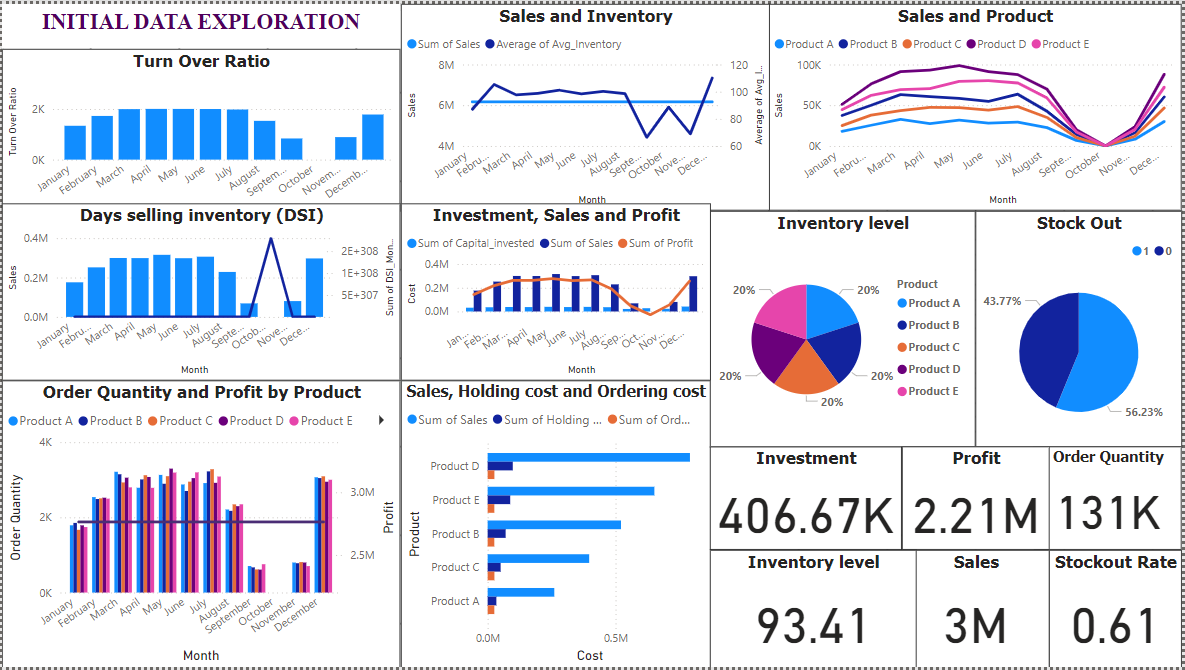

What the dashboard file says about the page in this screenshot:
{"tool":"powerbi","page":{"name":"Initial","canvas":[1280,720],"ordinal":0},"visuals":[{"type":"lineChart","title":"Sales and Product","fields":{"Y":["Sum(daily_inventory_management_data_with_scenarios.Sales)"],"Category":["daily_inventory_management_data_with_scenarios.Date.Variation.Date Hierarchy.Month"],"Series":["daily_inventory_management_data_with_scenarios.Product"]},"box":[832,0,448,224],"z":0},{"type":"clusteredColumnChart","title":"Turn Over Ratio","fields":{"Category":["daily_inventory_management_data_with_scenarios.Date.Variation.Date Hierarchy.Month"],"Y":["Avg(daily_inventory_management_data_with_scenarios.Turn_Over_Ratio)"]},"box":[0,48,432,176],"z":1000},{"type":"card","title":"Stockout Rate","fields":{"Values":["daily_inventory_management_data_with_scenarios.Stockout_rate"]},"box":[1136,592,144,128],"z":2000},{"type":"lineChart","title":"Sales and Inventory ","fields":{"Category":["daily_inventory_management_data_with_scenarios.Date.Variation.Date Hierarchy.Month"],"Y2":["Avg(daily_inventory_management_data_with_scenarios.Avg_Inventory)"],"Y":["Sum(new_inventory_management_data_with_scenarios.Sales)"]},"box":[432,0,400,224],"z":3000},{"type":"clusteredBarChart","title":"Sales, Holding cost and Ordering cost","fields":{"Category":["daily_inventory_management_data_with_scenarios.Product"],"Y":["Sum(daily_inventory_management_data_with_scenarios.Sales)","Sum(daily_inventory_management_data_with_scenarios.Holding Cost)","Sum(daily_inventory_management_data_with_scenarios.Order Quantity)"]},"box":[432,408,336,312],"z":4000},{"type":"lineClusteredColumnComboChart","title":"Order Quantity and Profit by Product","fields":{"Category":["daily_inventory_management_data_with_scenarios.Date.Variation.Date Hierarchy.Month"],"Series":["daily_inventory_management_data_with_scenarios.Product"],"Y":["Sum(daily_inventory_management_data_with_scenarios.Order Quantity)"],"Y2":["Sum(Optimized_daily_inventory_management_data_with_scenarios.Profit1)"]},"box":[0,408,432,312],"z":5000},{"type":"pieChart","title":"Stock Out","fields":{"Category":["daily_inventory_management_data_with_scenarios.Stock Out"],"Y":["CountNonNull(daily_inventory_management_data_with_scenarios.Stock Out)"]},"box":[1056,224,224,256],"z":6000},{"type":"card","title":"Investment","fields":{"Values":["Sum(daily_inventory_management_data_with_scenarios.Capital_invested)"]},"box":[768,480,208,112],"z":7000},{"type":"card","title":"Sales","fields":{"Values":["Sum(daily_inventory_management_data_with_scenarios.Sales)"]},"box":[976,592,160,128],"z":8000},{"type":"pieChart","title":"Inventory level","fields":{"Category":["daily_inventory_management_data_with_scenarios.Product"],"Y":["Sum(new_inventory_management_data_with_scenarios.Ending Inventory)"]},"box":[768,224,288,256],"z":9000},{"type":"card","title":"Order Quantity","fields":{"Values":["Sum(daily_inventory_management_data_with_scenarios.Order Quantity)"]},"box":[1120,480,160,112],"z":10000},{"type":"card","title":"Inventory level","fields":{"Values":["Avg(daily_inventory_management_data_with_scenarios.Ending Inventory)"]},"box":[768,592,224,128],"z":11000},{"type":"lineClusteredColumnComboChart","title":"Days selling inventory (DSI)","fields":{"Category":["daily_inventory_management_data_with_scenarios.Date.Variation.Date Hierarchy.Month"],"Y":["Sum(daily_inventory_management_data_with_scenarios.Sales)"],"Y2":["Sum(daily_inventory_management_data_with_scenarios.DSI_Monthly)"]},"box":[0,216,432,192],"z":12000},{"type":"lineClusteredColumnComboChart","title":"Investment, Sales and Profit","fields":{"Category":["daily_inventory_management_data_with_scenarios.Date.Variation.Date Hierarchy.Month"],"Y":["Sum(daily_inventory_management_data_with_scenarios.Capital_invested)","Sum(daily_inventory_management_data_with_scenarios.Sales)"],"Y2":["Sum(daily_inventory_management_data_with_scenarios.Profit)"]},"box":[432,216,336,192],"z":13000},{"type":"card","title":"Profit","fields":{"Values":["Sum(daily_inventory_management_data_with_scenarios.Profit)"]},"box":[976,480,160,112],"z":14000},{"type":"textbox","box":[0,0,432,48],"z":15000}]}

Visuals, with their boxes in screenshot pixels (x1, y1, x2, y2), scaled from the page's 1280x720 canvas onto the 1185x670 screenshot:
"Sales and Product" lineChart: left=770, top=0, right=1184, bottom=208
"Turn Over Ratio" clusteredColumnChart: left=0, top=45, right=400, bottom=208
"Stockout Rate" card: left=1052, top=551, right=1184, bottom=669
"Sales and Inventory " lineChart: left=400, top=0, right=770, bottom=208
"Sales, Holding cost and Ordering cost" clusteredBarChart: left=400, top=380, right=711, bottom=669
"Order Quantity and Profit by Product" lineClusteredColumnComboChart: left=0, top=380, right=400, bottom=669
"Stock Out" pieChart: left=978, top=208, right=1184, bottom=447
"Investment" card: left=711, top=447, right=904, bottom=551
"Sales" card: left=904, top=551, right=1052, bottom=669
"Inventory level" pieChart: left=711, top=208, right=978, bottom=447
"Order Quantity" card: left=1037, top=447, right=1184, bottom=551
"Inventory level" card: left=711, top=551, right=918, bottom=669
"Days selling inventory (DSI)" lineClusteredColumnComboChart: left=0, top=201, right=400, bottom=380
"Investment, Sales and Profit" lineClusteredColumnComboChart: left=400, top=201, right=711, bottom=380
"Profit" card: left=904, top=447, right=1052, bottom=551
textbox: left=0, top=0, right=400, bottom=45
